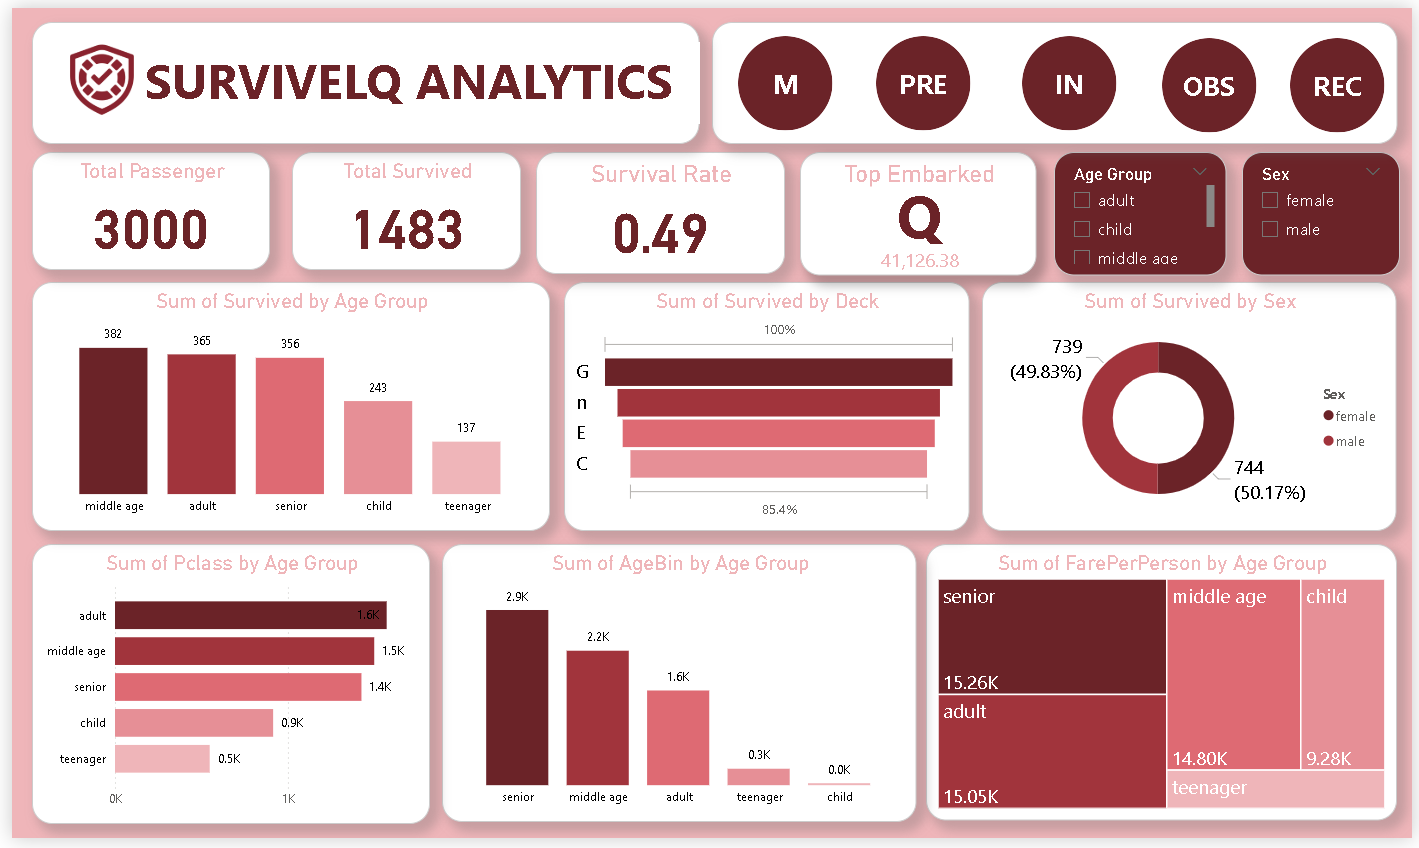

Layout of this report page (visuals, bound fields, positions):
{"tool":"powerbi","page":{"name":"Dashboard","canvas":[1400,830],"ordinal":0},"visuals":[{"type":"treemap","fields":{"Group":["titanic_.Age Group"],"Values":["Sum(titanic_.FarePerPerson)"]},"box":[914.5,536.4,470.9,276.4],"z":0},{"type":"columnChart","fields":{"Category":["titanic_.Age Group"],"Y":["Sum(titanic_.AgeBin)"]},"box":[430.9,536.4,474.5,278.2],"z":1000},{"type":"barChart","fields":{"Category":["titanic_.Age Group"],"Y":["Sum(titanic_.Pclass)"]},"box":[20,536.4,398.2,280],"z":2000},{"type":"funnel","fields":{"Category":["titanic_.Deck"],"Y":["Sum(titanic_.Survived)"]},"box":[552.7,274.5,405.5,249.1],"z":3000},{"type":"columnChart","fields":{"Category":["titanic_.Age Group"],"Y":["Sum(titanic_.Survived)"]},"box":[20,274.5,518.2,249.1],"z":4000},{"type":"donutChart","fields":{"Category":["titanic_.Sex"],"Y":["Sum(titanic_.Survived)"]},"box":[970.9,274.5,414.5,249.1],"z":5000},{"type":"card","title":"Total Passenger","fields":{"Values":["titanic_.Total passenger"]},"box":[20,143.6,238.2,118.2],"z":7000},{"type":"card","title":"Survival Rate","fields":{"Values":["titanic_.Survival rate"]},"box":[523.6,143.6,249.1,121.8],"z":9000},{"type":"shape","title":"Top Embarked","box":[787.3,143.6,236.4,123.6],"z":11000},{"type":"textbox","box":[880,161.8,90.9,87.3],"z":12000},{"type":"textbox","box":[860,225.5,129.1,41.8],"z":13000},{"type":"slicer","fields":{"Values":["titanic_.Age Group"]},"box":[1041.8,143.6,172.7,123.6],"z":13001},{"type":"slicer","fields":{"Values":["titanic_.Sex"]},"box":[1229.1,143.6,158.2,123.6],"z":13002},{"type":"shape","box":[700,14.5,685.5,121.8],"z":13003},{"type":"shape","box":[725.5,27.3,94.5,94.5],"z":13004},{"type":"shape","box":[863.6,27.3,94.5,94.5],"z":13005},{"type":"shape","box":[1009.1,27.3,94.5,94.5],"z":13006},{"type":"shape","box":[1150.9,29.1,94.5,94.5],"z":13007},{"type":"shape","box":[1278.2,29.1,94.5,94.5],"z":13008},{"type":"card","title":"Total Survived","fields":{"Values":["Sum(titanic_.Survived)"]},"box":[280,143.6,229.1,118.2],"z":13009},{"type":"shape","box":[20,14.5,667.3,121.8],"z":13010},{"type":"textbox","box":[127.3,34.5,560,81.8],"z":13011},{"type":"image","box":[20,14.5,140,120],"z":13012}]}

Visuals, with their boxes in screenshot pixels (x1, y1, x2, y2), scaled from the page's 1400x830 canvas onto the 1419x848 screenshot:
treemap - titanic_.Age Group x Sum(titanic_.FarePerPerson): x1=927 y1=548 x2=1404 y2=830
columnChart - titanic_.Age Group x Sum(titanic_.AgeBin): x1=437 y1=548 x2=918 y2=832
barChart - titanic_.Age Group x Sum(titanic_.Pclass): x1=20 y1=548 x2=424 y2=834
funnel - titanic_.Deck x Sum(titanic_.Survived): x1=560 y1=280 x2=971 y2=535
columnChart - titanic_.Age Group x Sum(titanic_.Survived): x1=20 y1=280 x2=546 y2=535
donutChart - titanic_.Sex x Sum(titanic_.Survived): x1=984 y1=280 x2=1404 y2=535
"Total Passenger" card: x1=20 y1=147 x2=262 y2=267
"Survival Rate" card: x1=531 y1=147 x2=783 y2=271
"Top Embarked" shape: x1=798 y1=147 x2=1038 y2=273
textbox: x1=892 y1=165 x2=984 y2=255
textbox: x1=872 y1=230 x2=1003 y2=273
slicer - titanic_.Age Group: x1=1056 y1=147 x2=1231 y2=273
slicer - titanic_.Sex: x1=1246 y1=147 x2=1406 y2=273
shape: x1=710 y1=15 x2=1404 y2=139
shape: x1=735 y1=28 x2=831 y2=124
shape: x1=875 y1=28 x2=971 y2=124
shape: x1=1023 y1=28 x2=1119 y2=124
shape: x1=1167 y1=30 x2=1262 y2=126
shape: x1=1296 y1=30 x2=1391 y2=126
"Total Survived" card: x1=284 y1=147 x2=516 y2=267
shape: x1=20 y1=15 x2=697 y2=139
textbox: x1=129 y1=35 x2=697 y2=119
image: x1=20 y1=15 x2=162 y2=137
